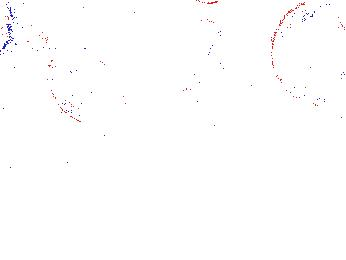moon jellyfish: (271, 2, 346, 107), (47, 46, 124, 127), (27, 1, 140, 52), (116, 1, 222, 45), (166, 17, 221, 93)
